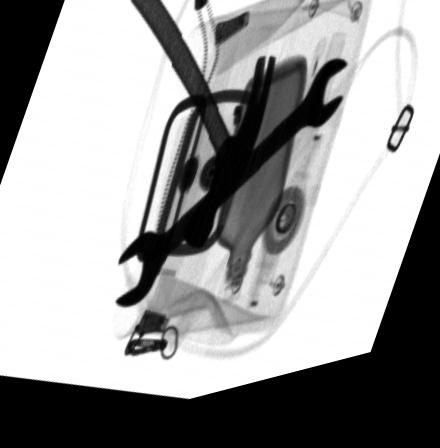Hammer: (126, 0, 277, 260)
Wrench: (116, 75, 347, 314)
